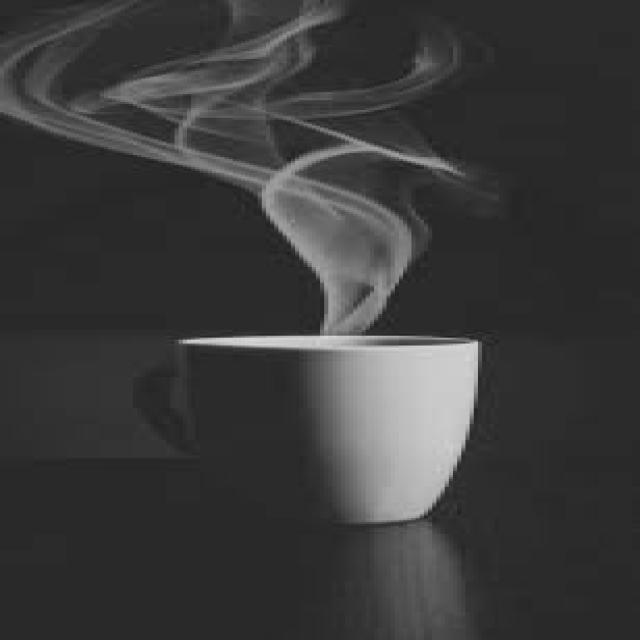taza: (126, 316, 495, 536)
